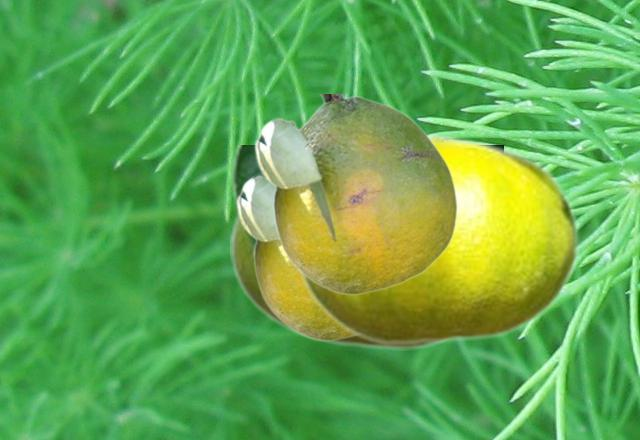dalandan: (296, 133, 578, 346), (230, 145, 449, 349), (253, 94, 457, 294), (235, 174, 356, 340)
